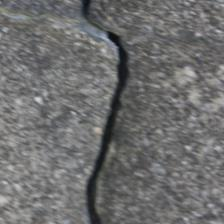Crack: (39, 2, 98, 220)
